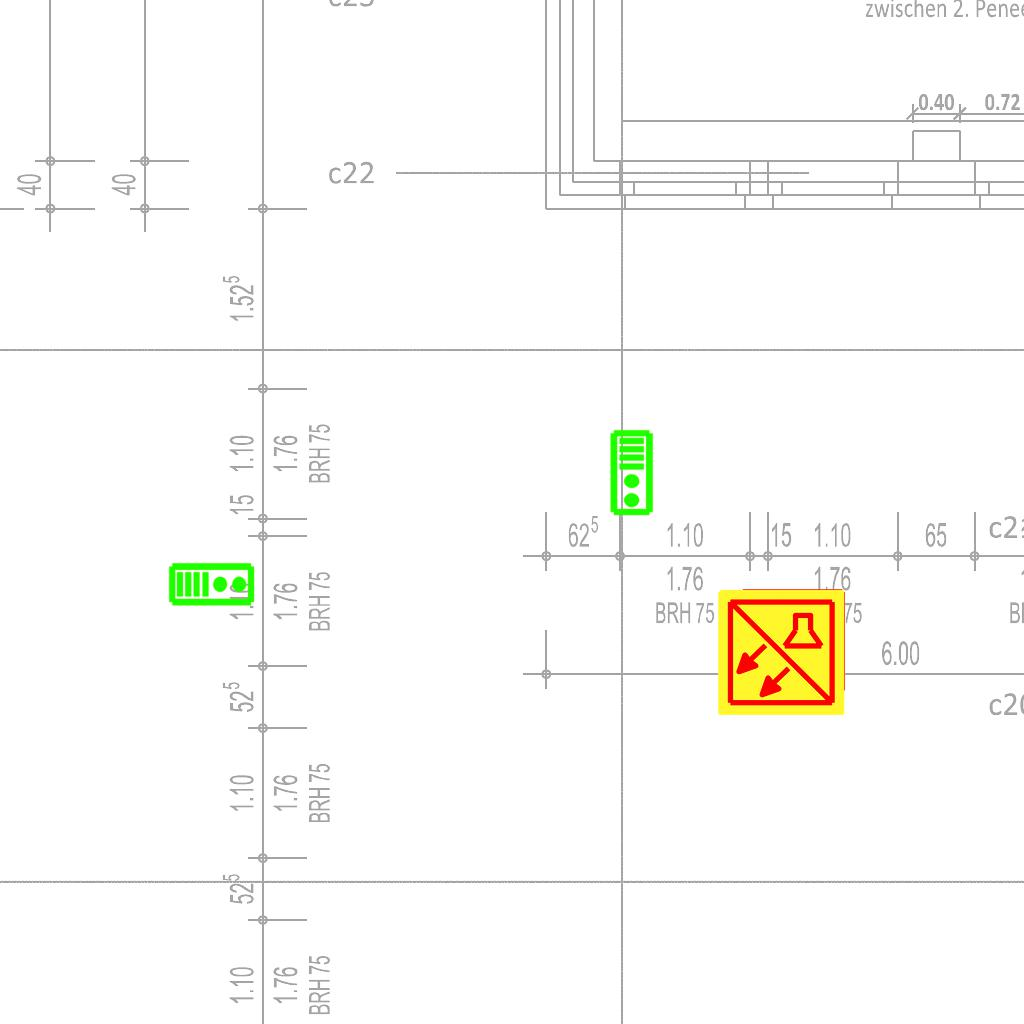Gegensprechanlage_mit_Video: (168, 560, 256, 607), (609, 429, 656, 517)
OKW_Multisensormelder_(Kombination_optischer_Rauch-Kahlenmonoxid_Waerme-Melder): (715, 586, 847, 718)
